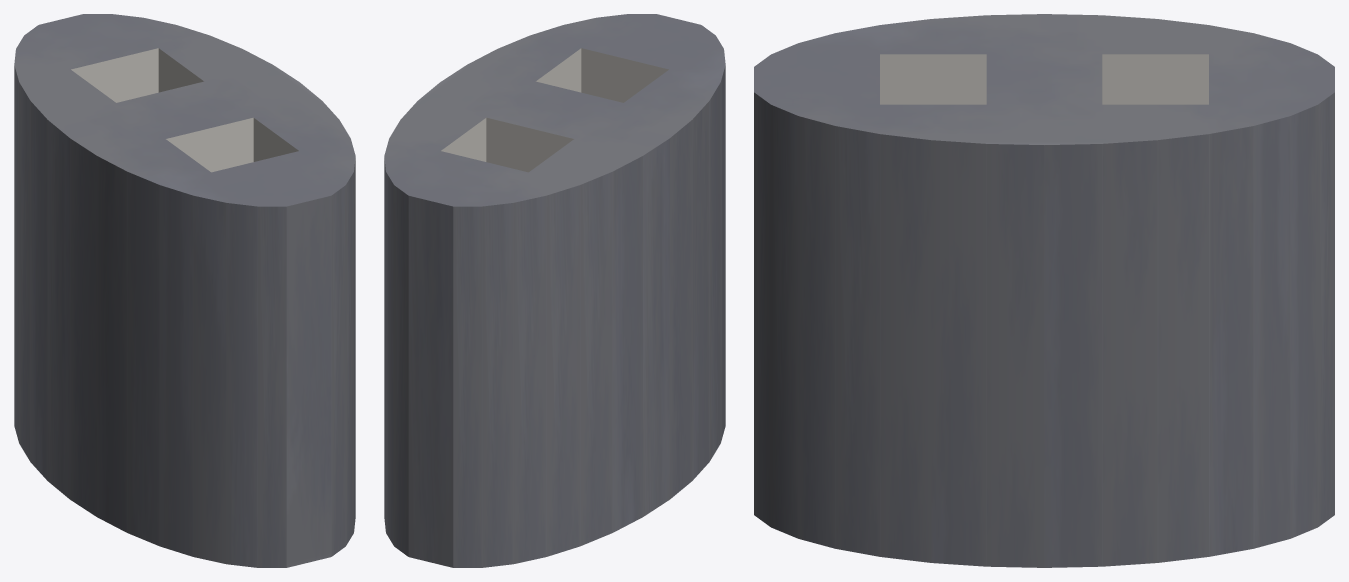
The model's file is Trash can.fbx.
3 renders of one model, left to right at view 1: azimuth 30°, elevation 25°; view 2: azimuth 150°, elevation 25°; view 3: azimuth 270°, elevation 25°, orthographic. The views are drawn at different scales.
Parts seen in each view (by area): view 1: Cylinder; view 2: Cylinder; view 3: Cylinder.
Part boxes in pixels (box(x1,y1,x2,y2)): Cylinder: box(14, 14, 355, 567); Cylinder: box(384, 14, 725, 567); Cylinder: box(754, 14, 1334, 567).
Size of the model in its own units: 50.33 by 75.65 by 94.16.
